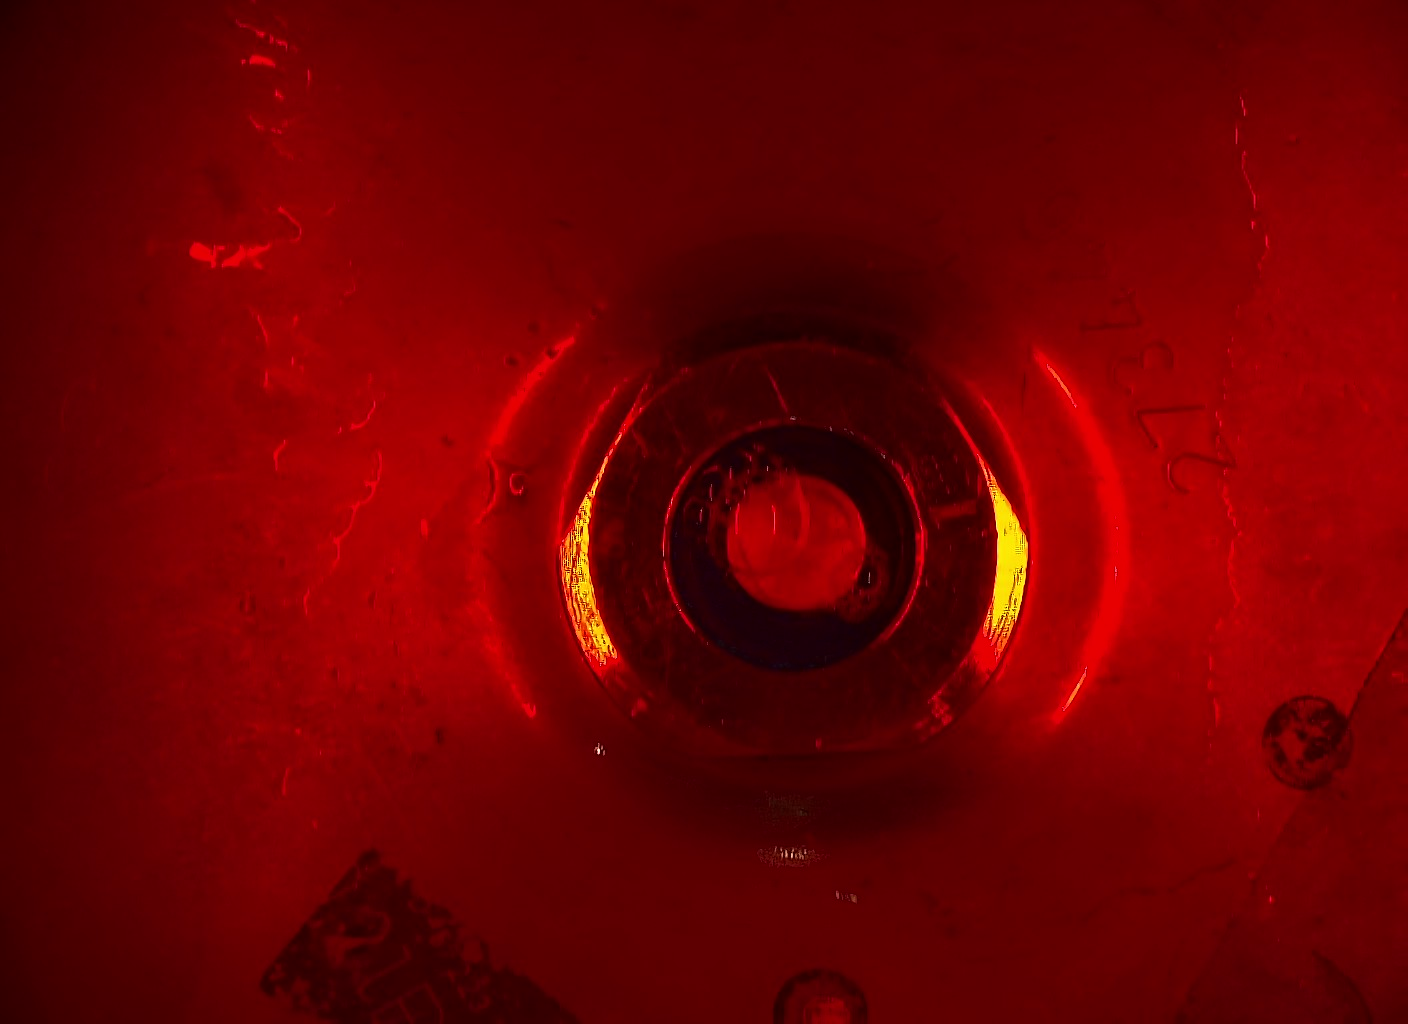pena: (678, 438, 810, 582), (828, 541, 917, 636)
